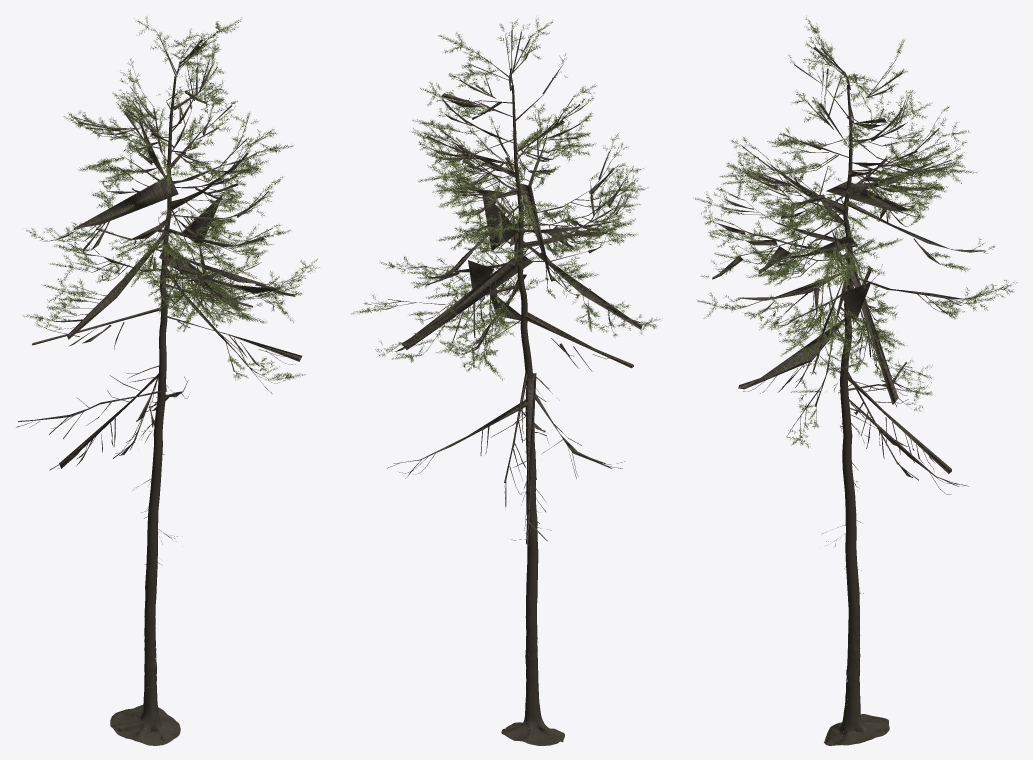
File: fir_mature_c_lod0.gltf
The picture shows the model from 3 angles, left to right: view 1: azimuth 30°, elevation 25°; view 2: azimuth 150°, elevation 25°; view 3: azimuth 270°, elevation 25°; orthographic projection. The views are drawn at different scales.
Parts seen in each view (by area): view 1: fir_tree_01_c_LOD0.002, fir_tree_01_c_LOD0.001, fir_tree_01_c_LOD0; view 2: fir_tree_01_c_LOD0.002, fir_tree_01_c_LOD0.001, fir_tree_01_c_LOD0; view 3: fir_tree_01_c_LOD0.002, fir_tree_01_c_LOD0.001, fir_tree_01_c_LOD0.
Boxes of the visible parts, x1,y1,x2,y2 form: fir_tree_01_c_LOD0.002: (23, 16, 319, 381); fir_tree_01_c_LOD0.001: (16, 32, 302, 470); fir_tree_01_c_LOD0: (110, 76, 180, 745); fir_tree_01_c_LOD0.002: (351, 17, 662, 380); fir_tree_01_c_LOD0.001: (377, 30, 650, 545); fir_tree_01_c_LOD0: (501, 85, 564, 745); fir_tree_01_c_LOD0.002: (693, 15, 1016, 448); fir_tree_01_c_LOD0.001: (712, 44, 1005, 494); fir_tree_01_c_LOD0: (824, 85, 889, 745).
Size of the model in its own units: 6.19 by 14.5 by 5.9.
Materials: 4 (4 with a texture image).
